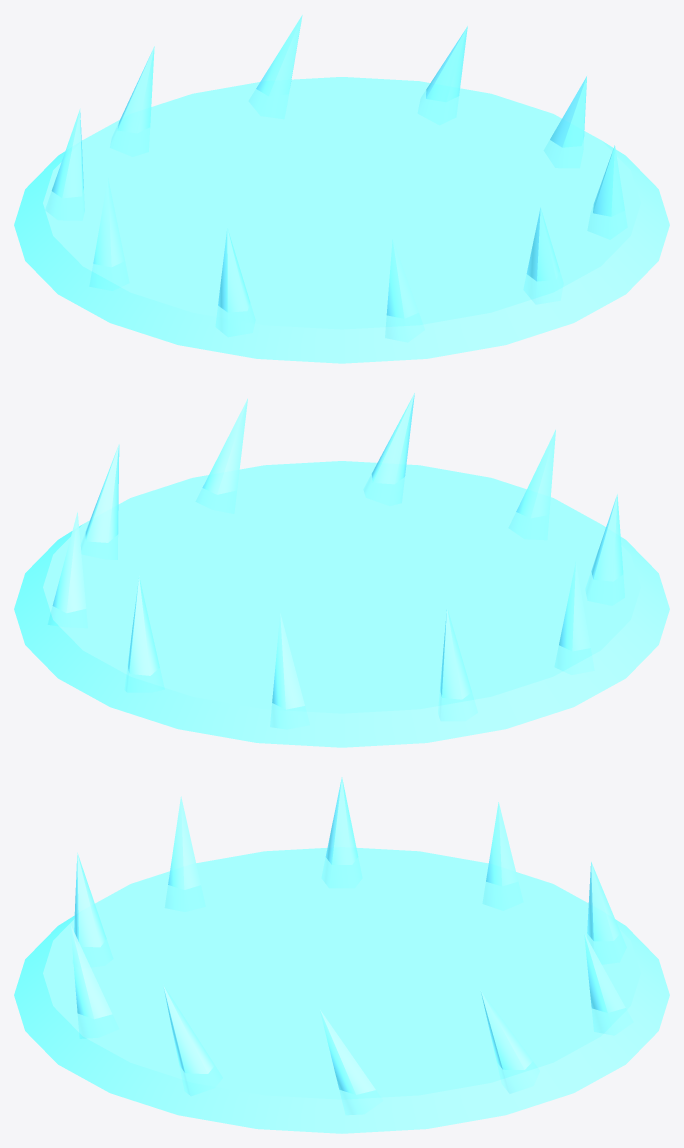
The model's file is ice_theater.glb.
The picture shows the model from 3 angles, top to bottom: view 1: azimuth 30°, elevation 25°; view 2: azimuth 150°, elevation 25°; view 3: azimuth 270°, elevation 25°; orthographic projection.
Parts seen in each view (by area): view 1: IceTheater; view 2: IceTheater; view 3: IceTheater.
Boxes of the visible parts, x1,y1,x2,y2 form: IceTheater: [14, 15, 669, 363]; IceTheater: [14, 393, 669, 747]; IceTheater: [14, 777, 669, 1133].
Size of the model in its own units: 13.6 by 2.48 by 13.6.
